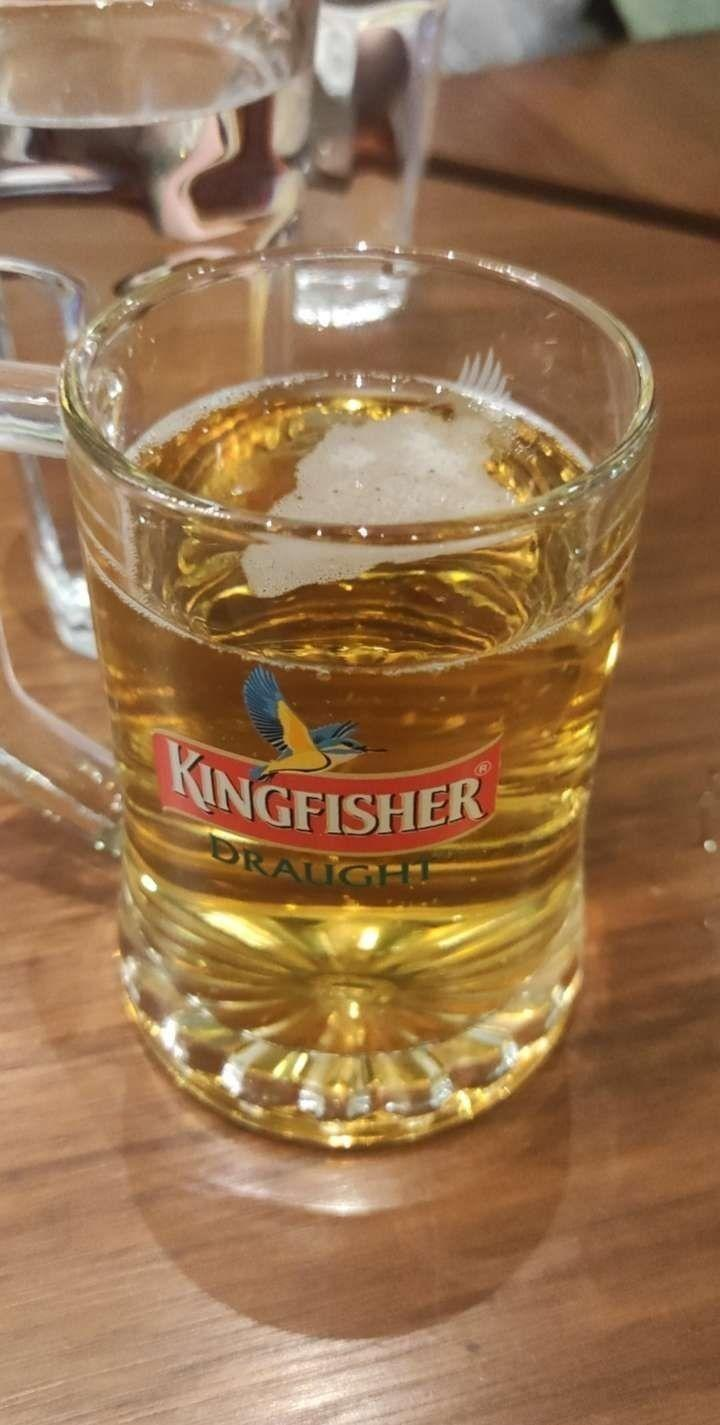glass-mug: (4, 227, 670, 1158)
